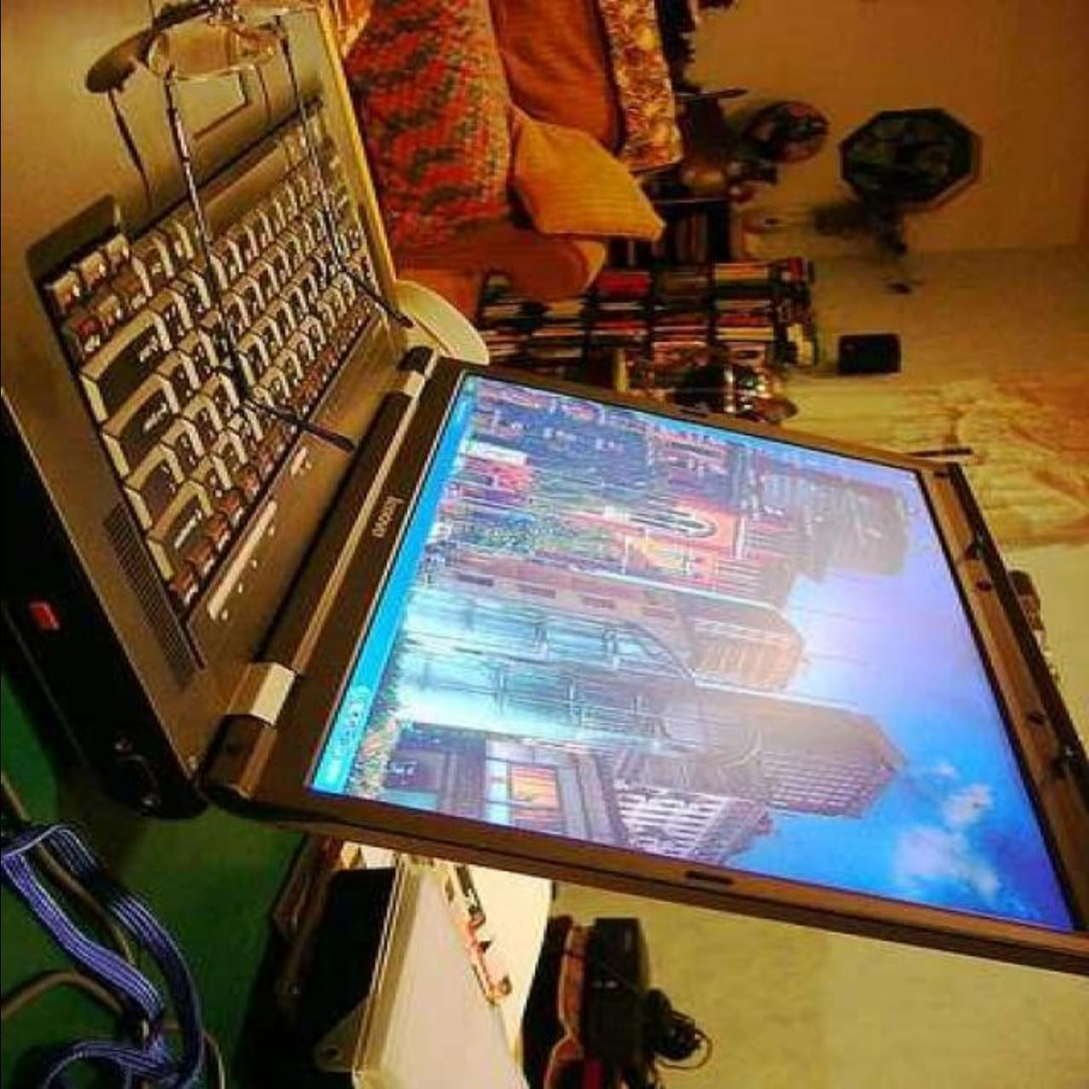laptop: (6, 157, 967, 793)
